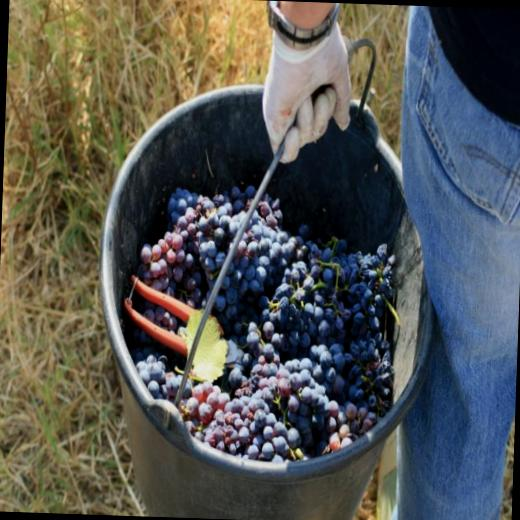Orange: (121, 182, 398, 466)
